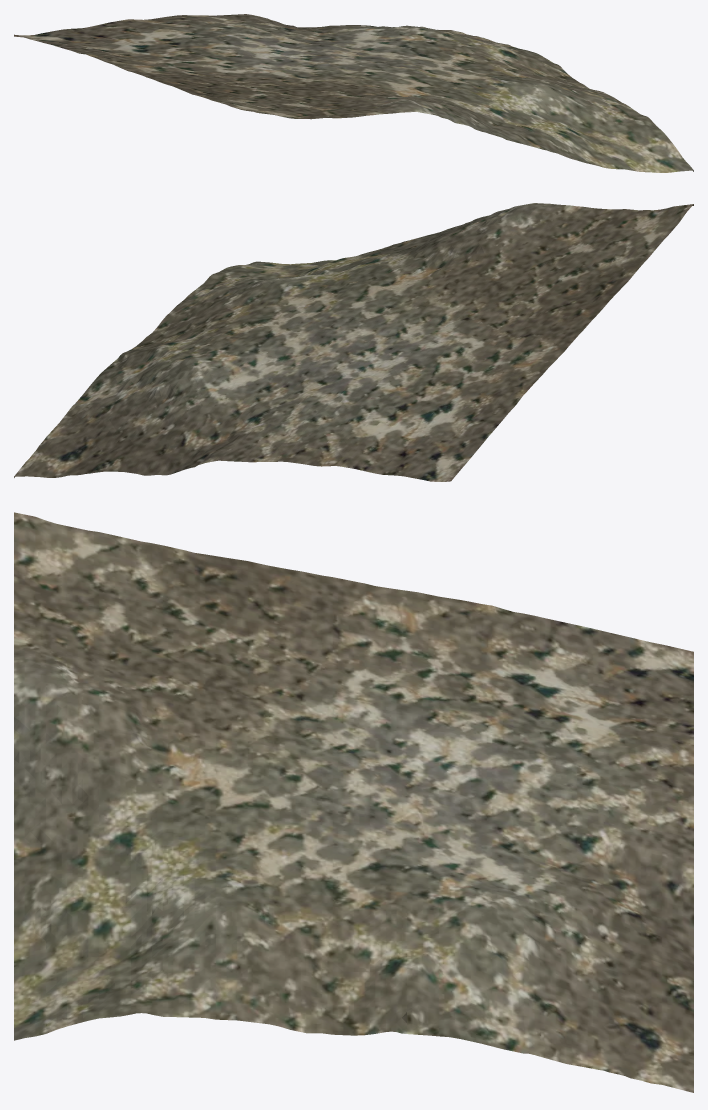
3 views of the same model, one above another, from view 1: azimuth 30°, elevation 25°; view 2: azimuth 150°, elevation 25°; view 3: azimuth 270°, elevation 25° (orthographic). The views are drawn at different scales.
Size of the model in its own units: 250 by 111 by 241.
1 material, 1 textured.
